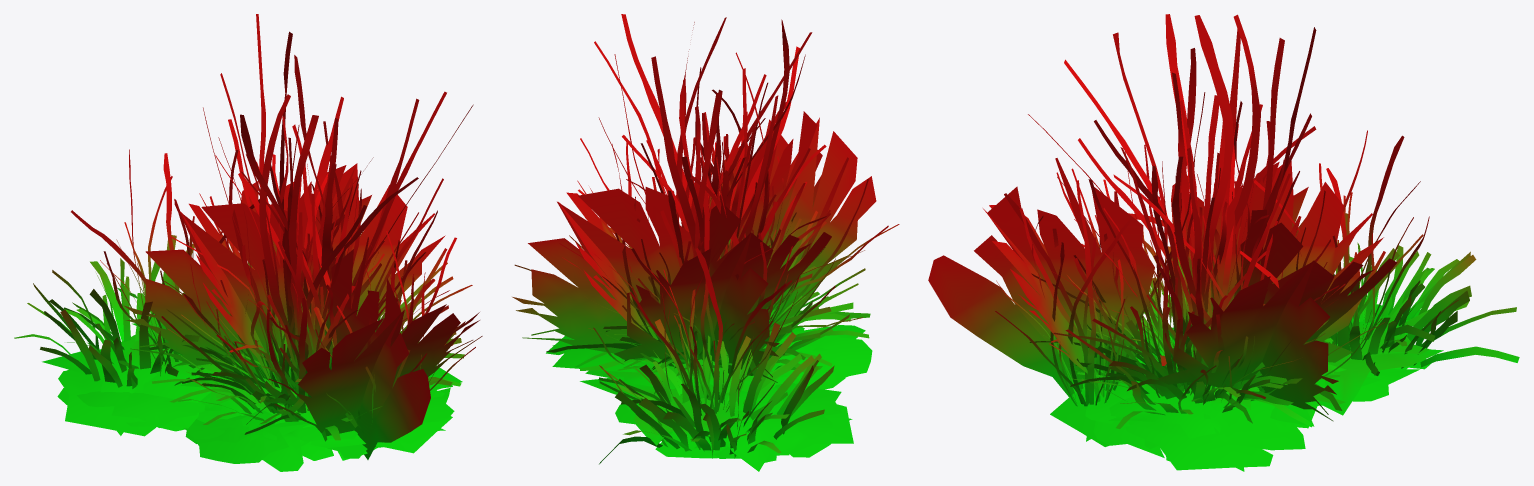
File: Wild Grass_LOD0_Var3_vdilbaiia.fbx
3 renders of one model, left to right at view 1: azimuth 30°, elevation 25°; view 2: azimuth 150°, elevation 25°; view 3: azimuth 270°, elevation 25°, orthographic. The views are drawn at different scales.
Parts seen in each view (by area): view 1: _kfri_Var3_LOD0; view 2: _kfri_Var3_LOD0; view 3: _kfri_Var3_LOD0.
Part boxes in pixels (left/top/right/bottom): _kfri_Var3_LOD0: left=14, top=14, right=482, bottom=471; _kfri_Var3_LOD0: left=512, top=14, right=899, bottom=471; _kfri_Var3_LOD0: left=928, top=14, right=1519, bottom=471.
Size of the model in its own units: 73.13 by 71.25 by 97.7.
